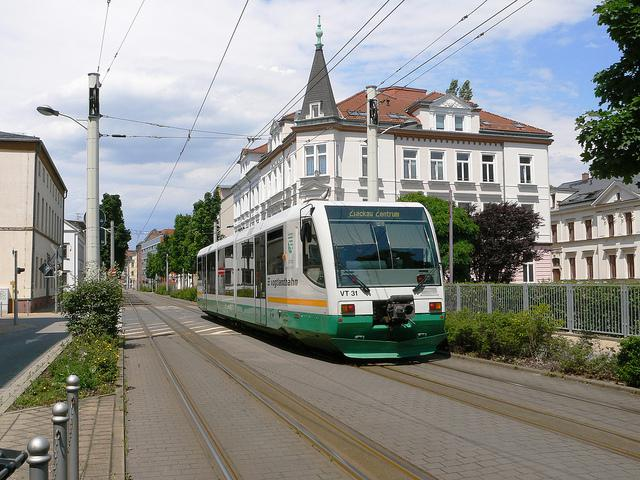Train: (192, 202, 455, 356)
